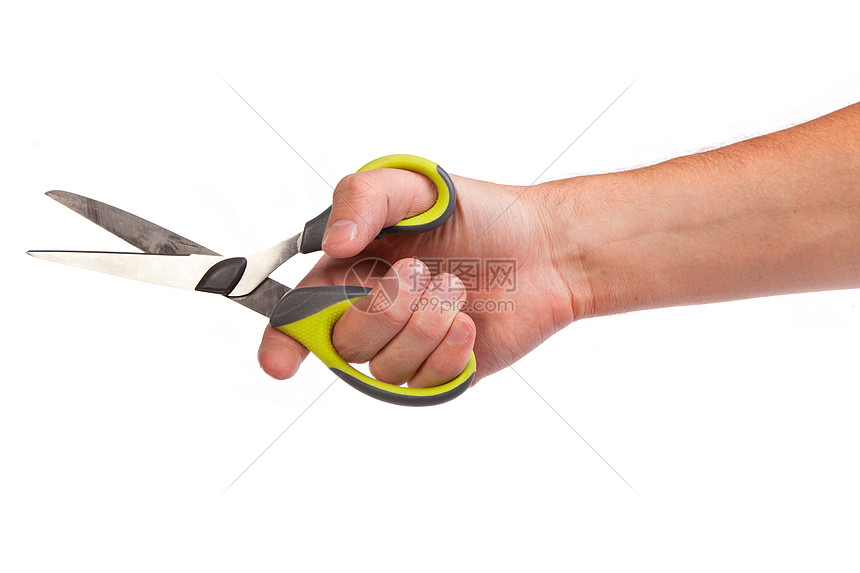scissors: (12, 147, 479, 415)
